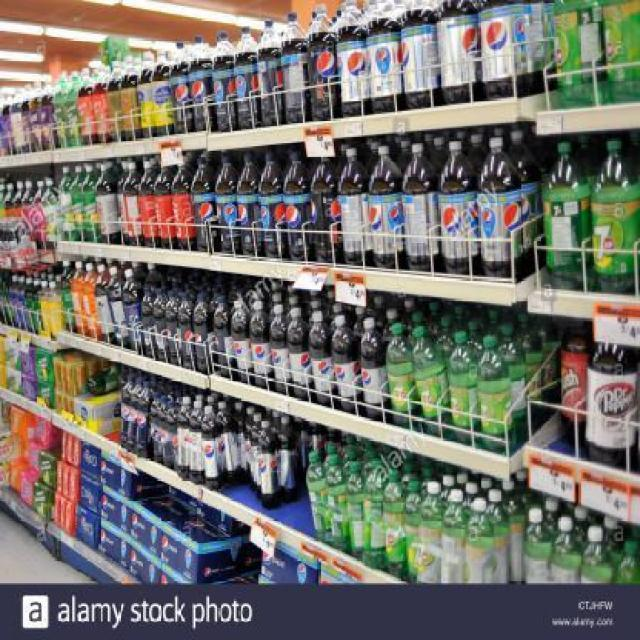Drinks: (585, 326, 639, 472), (542, 141, 593, 292), (592, 138, 640, 294), (478, 137, 522, 279), (553, 2, 604, 110), (438, 139, 478, 276), (400, 142, 440, 273), (479, 1, 530, 101), (368, 146, 405, 269), (437, 0, 479, 106), (478, 335, 516, 452), (399, 0, 439, 111), (366, 0, 404, 115), (337, 148, 373, 264), (412, 327, 450, 436), (602, 0, 639, 106), (337, 0, 368, 118), (310, 151, 341, 263), (283, 150, 314, 261), (308, 4, 337, 121), (450, 331, 479, 445), (359, 318, 390, 418), (331, 314, 362, 411), (308, 310, 339, 404), (386, 323, 414, 425), (256, 19, 282, 127), (237, 152, 263, 256), (258, 153, 284, 257), (188, 36, 216, 132), (191, 157, 219, 253), (282, 12, 306, 123), (212, 31, 238, 133), (170, 41, 198, 135), (216, 154, 242, 254), (234, 26, 258, 130), (258, 419, 281, 510), (249, 300, 272, 389), (200, 405, 223, 493), (161, 526, 197, 580), (230, 299, 253, 383), (271, 304, 291, 396), (287, 307, 307, 398), (98, 522, 130, 570), (131, 503, 163, 547), (97, 450, 133, 484), (101, 486, 135, 520), (130, 546, 161, 583)
